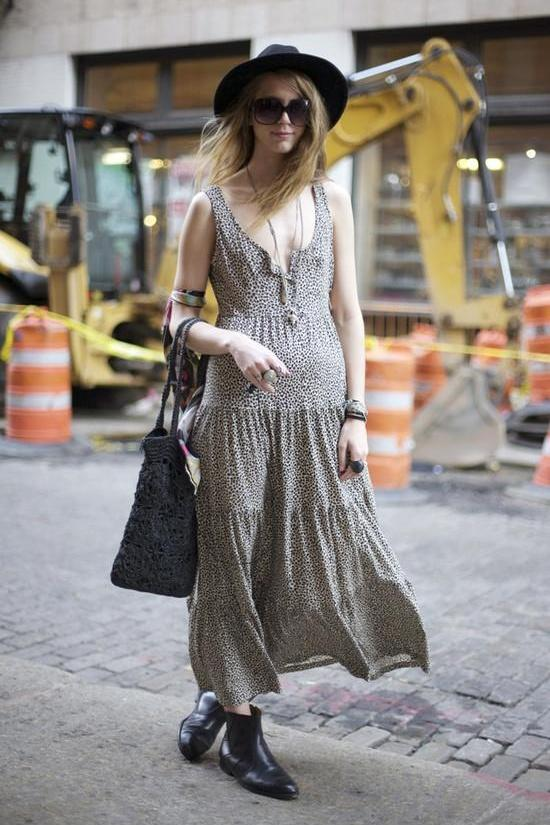dress: (186, 178, 429, 706)
